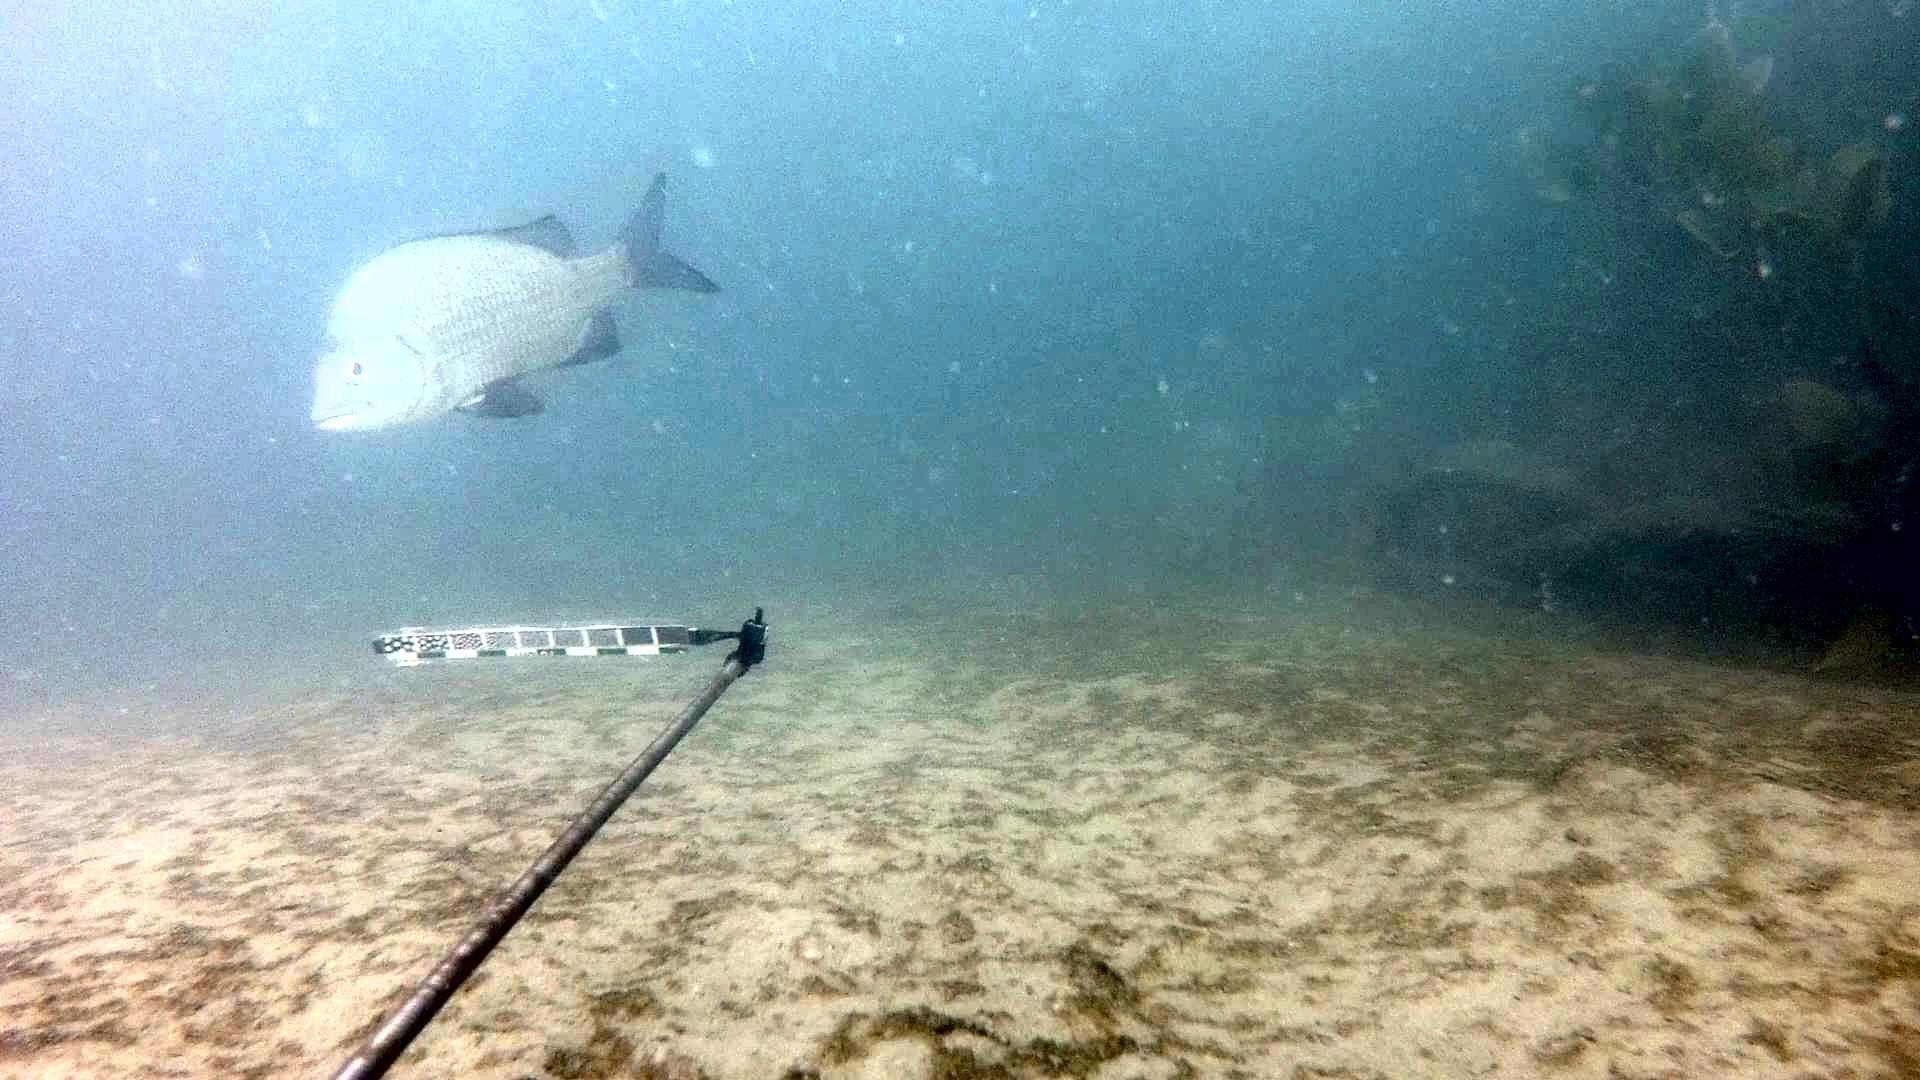acanthopagrus palmaris: (301, 167, 733, 451)
